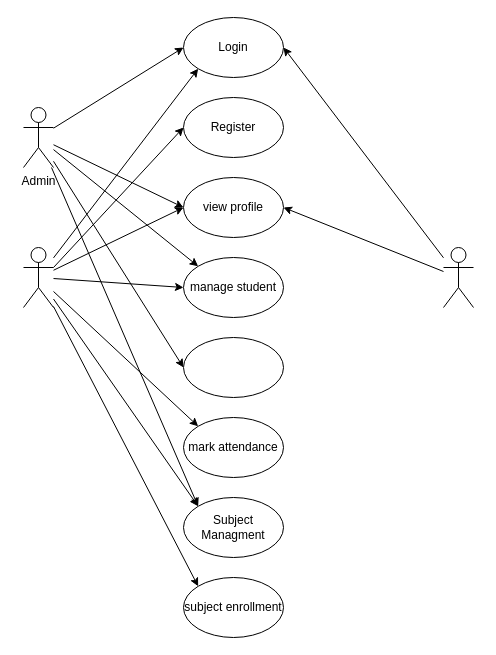
The diagram is 496 pixels wide and 655 high, and some of its shapes have lost their labels. Here are the shapes that lost their labels. From the top down, the centre of each, then its label:
[38,277]: Teacher
[458,277]: Student
[233,367]: manage teacher
